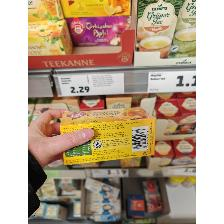Tee: (60, 106, 156, 166)
